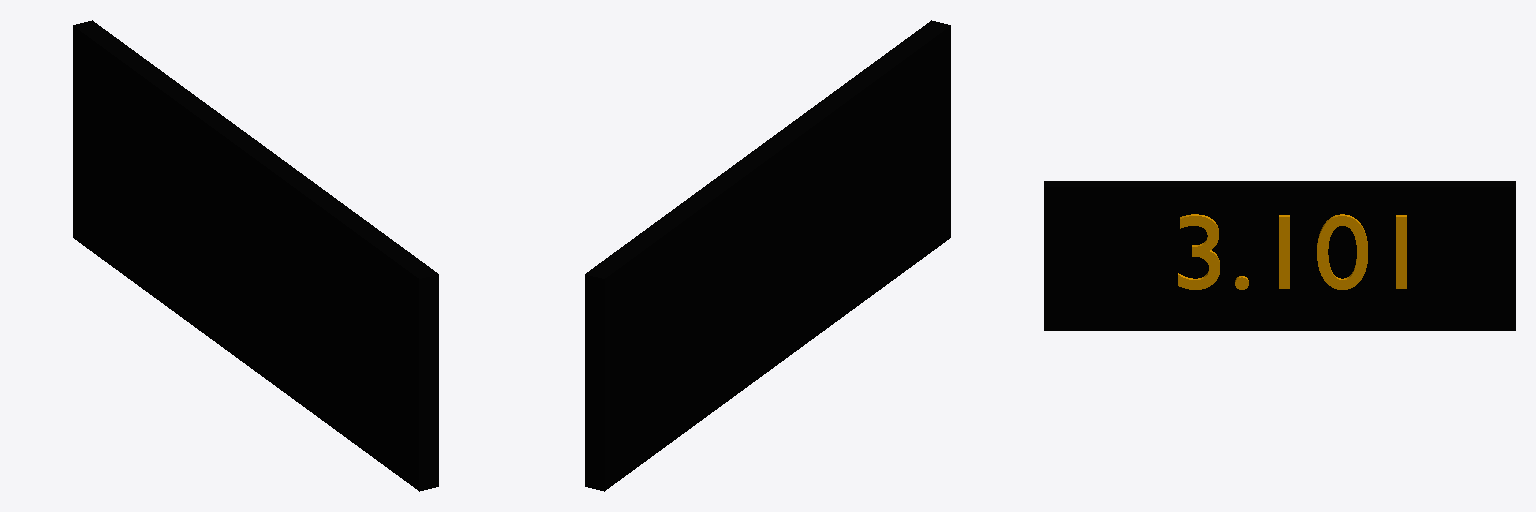
robot.urdf — 3_101:
<robot name="3_101">
  <gazebo>
      <static>true</static>
  </gazebo>
  <link name="base">
    <visual>
      <origin xyz="0 0 0" rpy="0 0 0"/>
      <geometry>
        <mesh filename="urdf_models/sign/3_101.dae" scale ="0.5 0.5 0.5"/>
        <scale> 0.5 0.5 0.5 </scale>
      </geometry>
    </visual>
    <collision>
      <origin xyz="0 0 0" rpy="0 0 0"/>
      <geometry>
        <mesh filename="urdf_models/sign/3_101.dae" scale ="0.5 0.5 0.5"/>
        <scale> 0.5 0.5 0.5 </scale>
      </geometry>
    </collision>
    <inertial>
      <origin xyz="0 0 0" rpy="0 0 0"/>
      <mass value="1"/>
      <inertia
        ixx="0.0" ixy="0.0" ixz="0.0"
        iyy="0.0" iyz="0.0"
        izz="0.0"/>
    </inertial>
  </link>
</robot>

--- Render facts (derived) ---
3 views of the same robot in one strip: view 1: azimuth 30°, elevation 25°; view 2: azimuth 150°, elevation 25°; view 3: azimuth 270°, elevation 25° (orthographic).
Model 3_101 with 1 links and 0 joints (none), rooted at base, posed every joint at zero.
Visible links, largest first — view 1: base; view 2: base; view 3: base.
Link boxes in pixels (box(x1,y1,x2,y2)): base: box(73, 20, 438, 491); base: box(585, 20, 950, 491); base: box(1044, 181, 1515, 330).
Size in the robot's own frame: 0.0062 by 0.151 by 0.051 metres.
1 mesh visuals loaded from 1 distinct referenced files (1 Collada DAE).